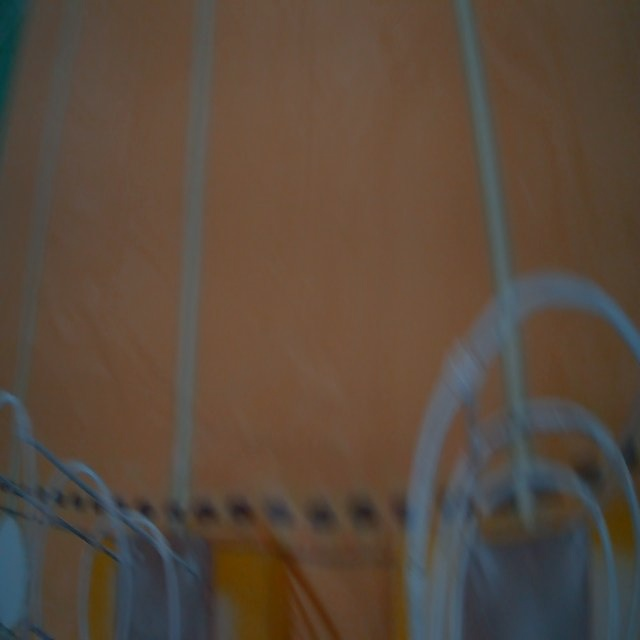silo: (415, 275, 640, 640), (0, 390, 211, 640)
